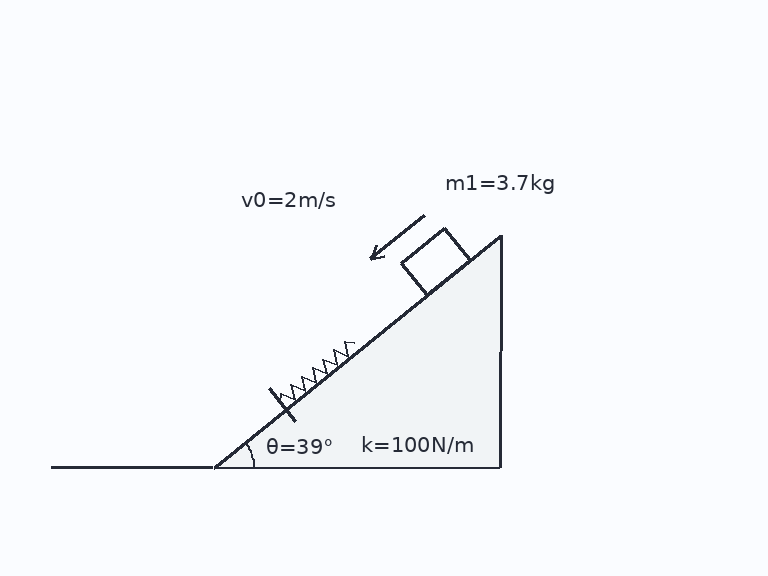block: (399, 226, 472, 297)
ramp: (212, 233, 502, 469)
spring: (278, 339, 356, 404)
